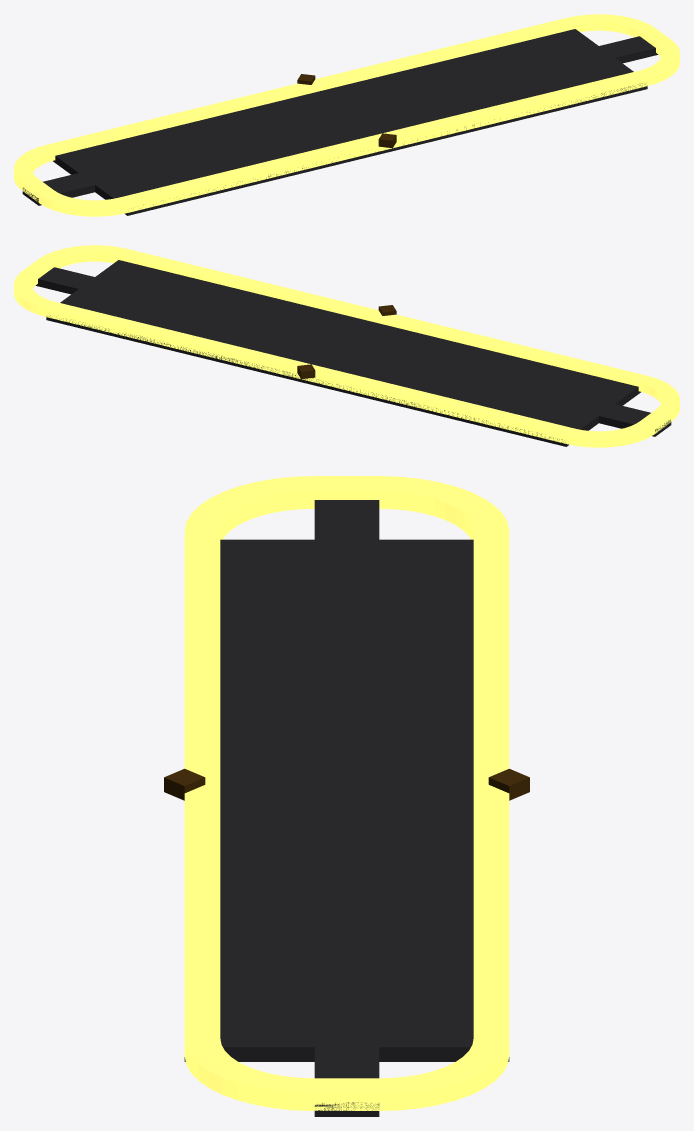
Rendered from Boton_Menu.fbx.
The picture shows the model from 3 angles, top to bottom: view 1: azimuth 30°, elevation 25°; view 2: azimuth 150°, elevation 25°; view 3: azimuth 270°, elevation 25°; orthographic projection. The views are drawn at different scales.
Parts seen in each view (by area): view 1: Boton_Fondo, Boton_Borde; view 2: Boton_Fondo, Boton_Borde; view 3: Boton_Fondo, Boton_Borde.
Boxes of the visible parts, x1,y1,x2,y2 form: Boton_Fondo: (22, 29, 658, 215); Boton_Borde: (14, 14, 679, 216); Boton_Fondo: (35, 260, 671, 446); Boton_Borde: (14, 245, 679, 447); Boton_Fondo: (184, 500, 509, 1116); Boton_Borde: (184, 476, 509, 1110).
Bounding box in the file's own units: 450 × 10.5 × 113.
